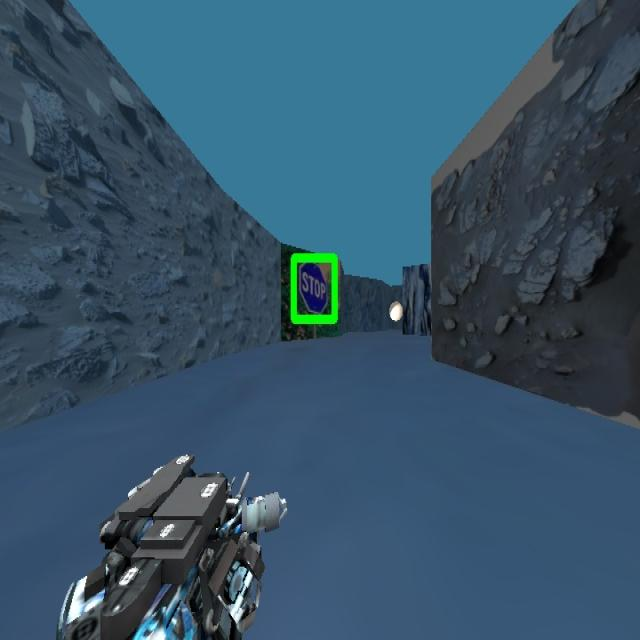Circle: (388, 300, 402, 321)
Stop_Sign: (289, 251, 339, 325)
